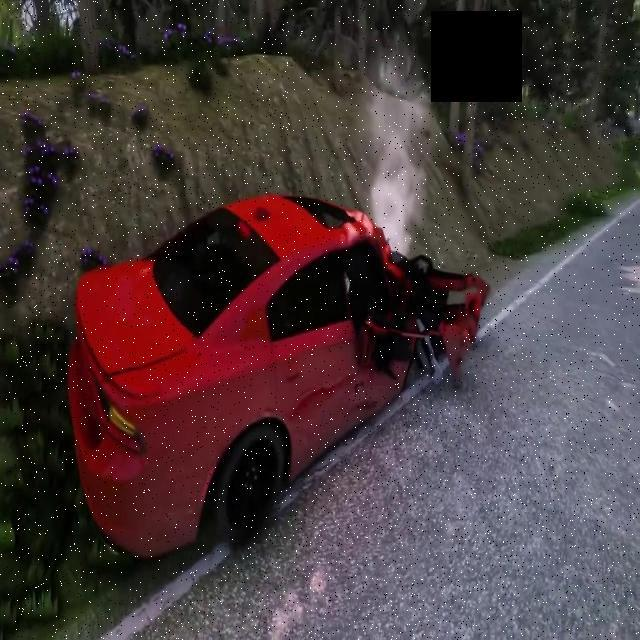severe: (61, 182, 491, 550)
